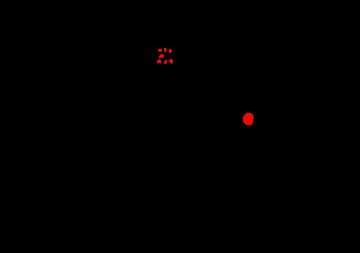Target: (243, 113, 254, 125), (159, 54, 164, 58), (169, 59, 173, 64), (157, 59, 161, 63), (164, 48, 167, 52), (158, 49, 162, 52), (169, 49, 172, 53), (164, 60, 167, 64)
